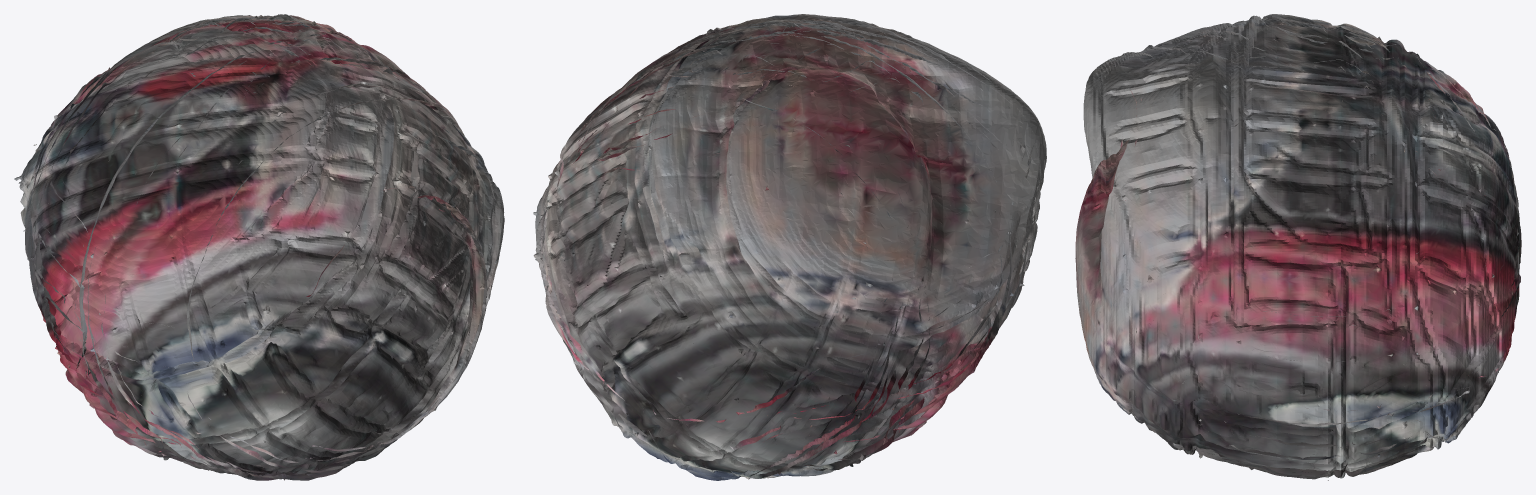
File: helmet_racing.glb
3 views of the same model, side by side, from view 1: azimuth 30°, elevation 25°; view 2: azimuth 150°, elevation 25°; view 3: azimuth 270°, elevation 25° (orthographic). The views are drawn at different scales.
Visible parts, largest first — view 1: geometry_0; view 2: geometry_0; view 3: geometry_0.
Boxes of the visible parts, x1,y1,x2,y2 form: geometry_0: (14, 14, 504, 480); geometry_0: (533, 14, 1046, 480); geometry_0: (1075, 14, 1521, 480).
Bounding box in the file's own units: 0.995 × 0.9899 × 0.9528.
